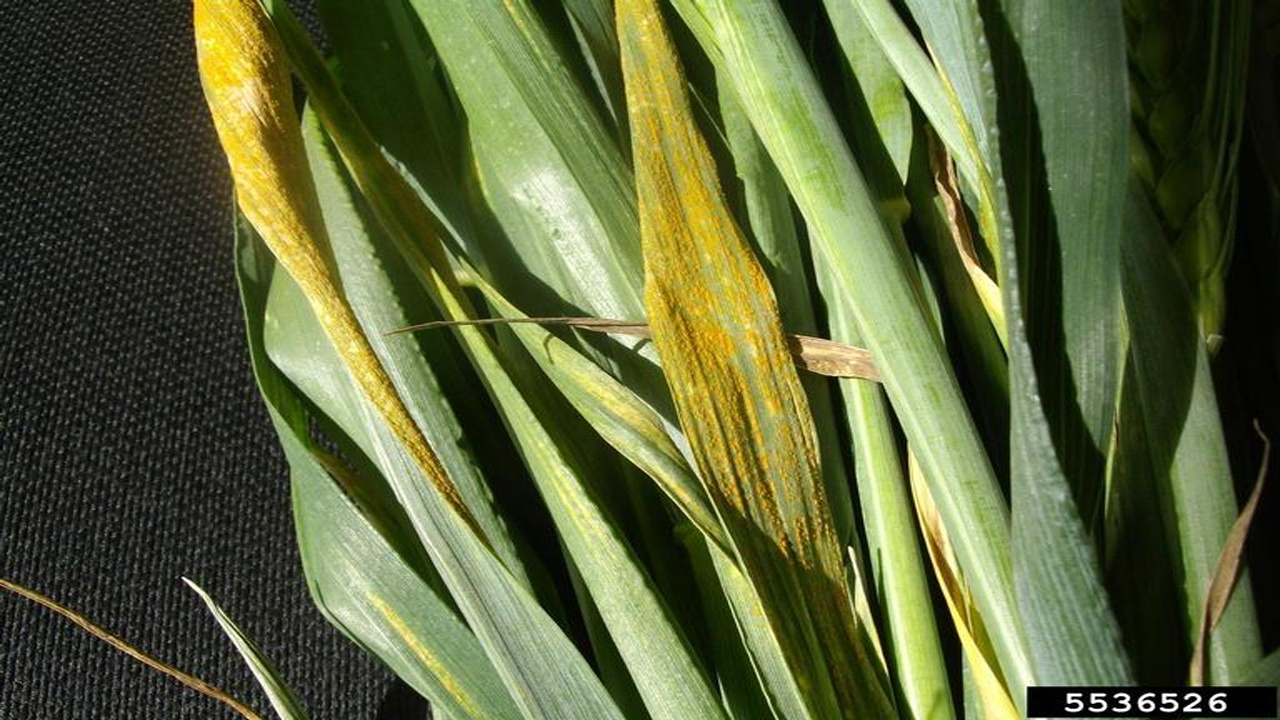stripe_rust: (615, 3, 883, 720), (193, 1, 487, 560), (404, 237, 719, 720), (415, 206, 725, 540), (296, 484, 492, 719)
